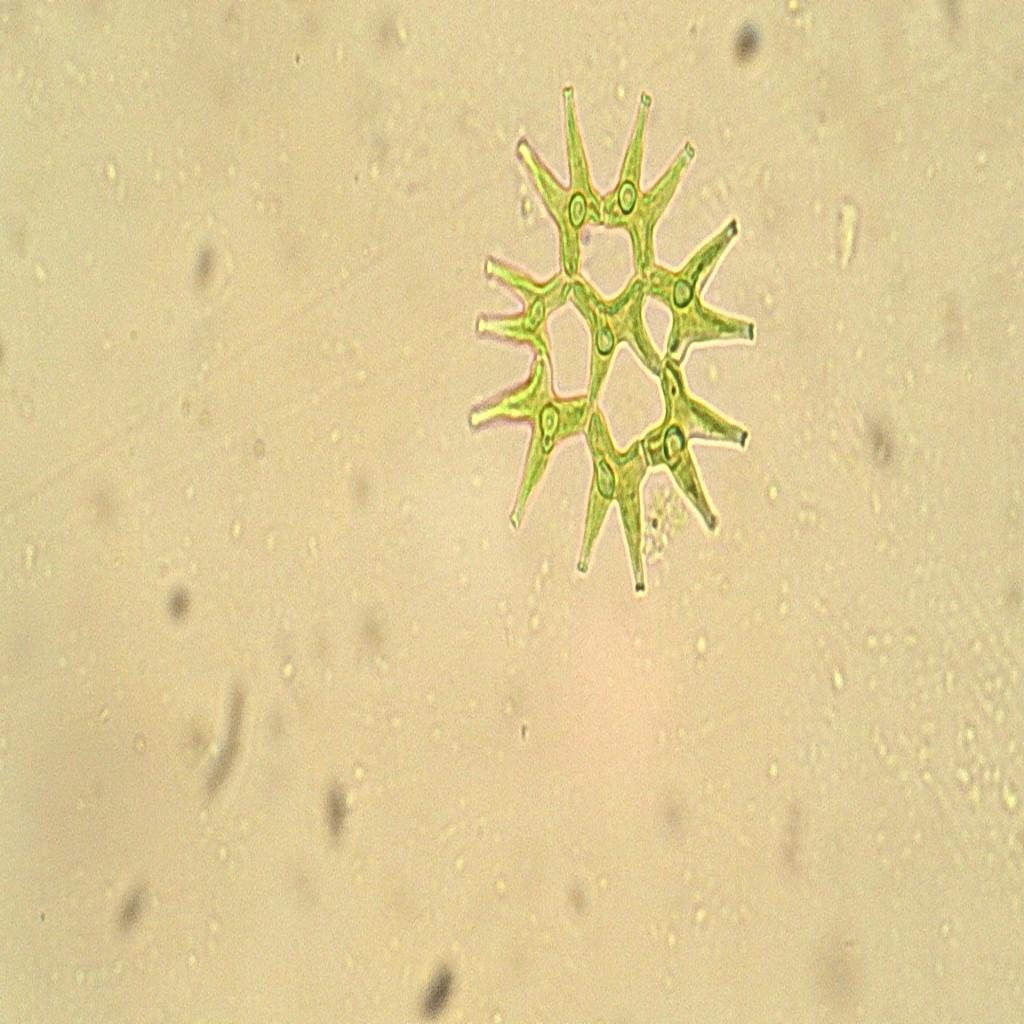Pediastrum_CTH: (454, 71, 791, 623)
